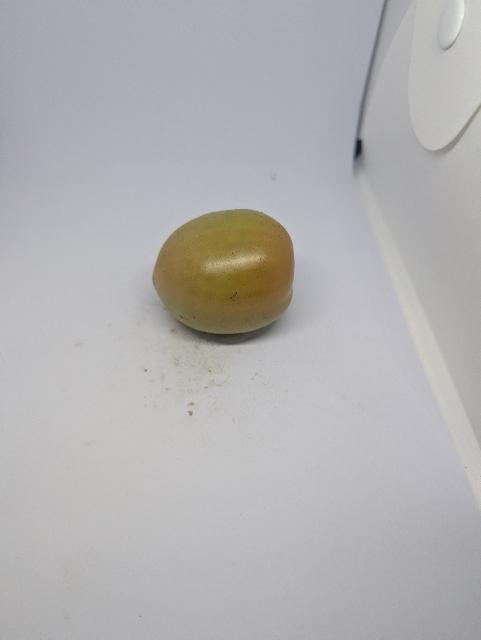breaker: (151, 208, 298, 346)
